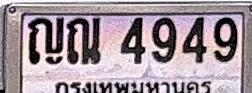4: (120, 16, 145, 64), (182, 16, 206, 63)
9: (152, 16, 176, 63), (214, 17, 238, 62)
A13: (27, 16, 64, 62)
A19: (66, 16, 101, 64)
BKK: (53, 79, 213, 93)
